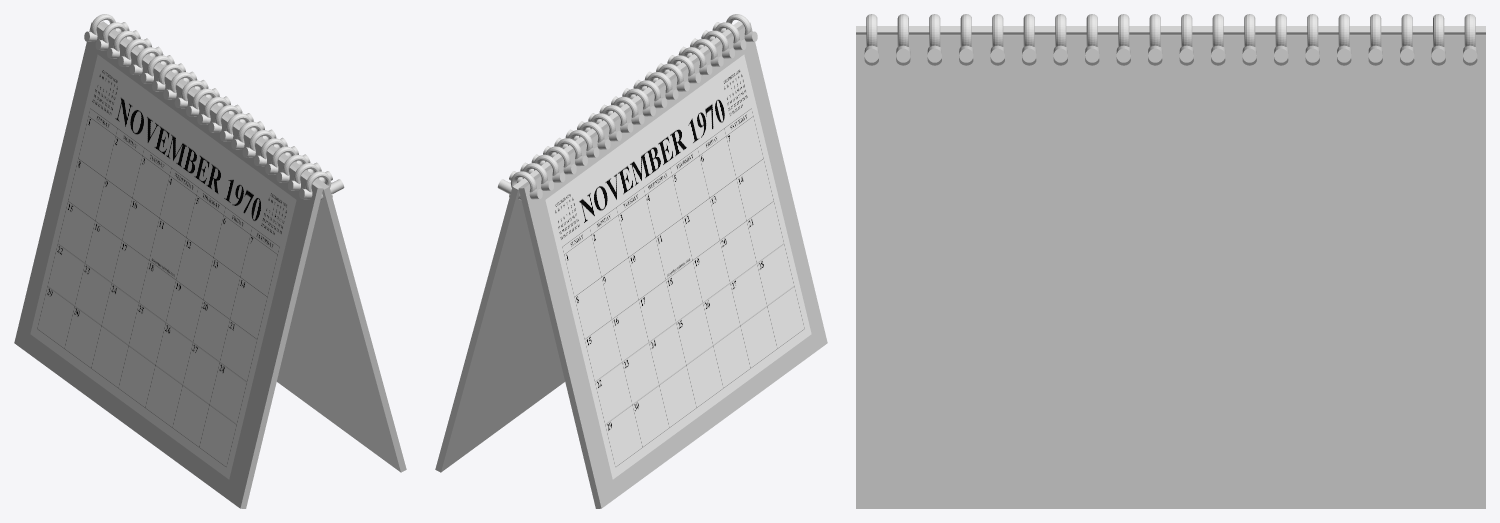
Rendered from Calendar.fbx.
3 renders of one model, left to right at view 1: azimuth 30°, elevation 25°; view 2: azimuth 150°, elevation 25°; view 3: azimuth 270°, elevation 25°, orthographic. The views are drawn at different scales.
Parts seen in each view (by area): view 1: calendar, Cube, Cube.001, Rings, Cylinder.001, Cylinder.002; view 2: calendar, Cube, Cube.001, Rings, Cylinder.001, Cylinder.002; view 3: Cube.001, Rings, Cylinder.002, Cube, Cylinder.001.
Part boxes in pixels (x1,y1,x2,y2): calendar: [30, 54, 296, 479]; Cube: [14, 22, 323, 508]; Cube.001: [99, 21, 406, 472]; Rings: [90, 14, 331, 192]; Cylinder.001: [84, 31, 332, 199]; Cylinder.002: [115, 22, 344, 200]; calendar: [545, 54, 811, 479]; Cube: [518, 22, 827, 508]; Cube.001: [435, 21, 742, 472]; Rings: [510, 14, 751, 192]; Cylinder.001: [509, 31, 757, 199]; Cylinder.002: [497, 22, 726, 200]; Cube.001: [856, 34, 1485, 508]; Rings: [866, 14, 1475, 46]; Cylinder.002: [864, 45, 1477, 62]; Cube: [856, 26, 1485, 34]; Cylinder.001: [864, 56, 1477, 65].
Size of the model in its own units: 84.92 by 154 by 200.
